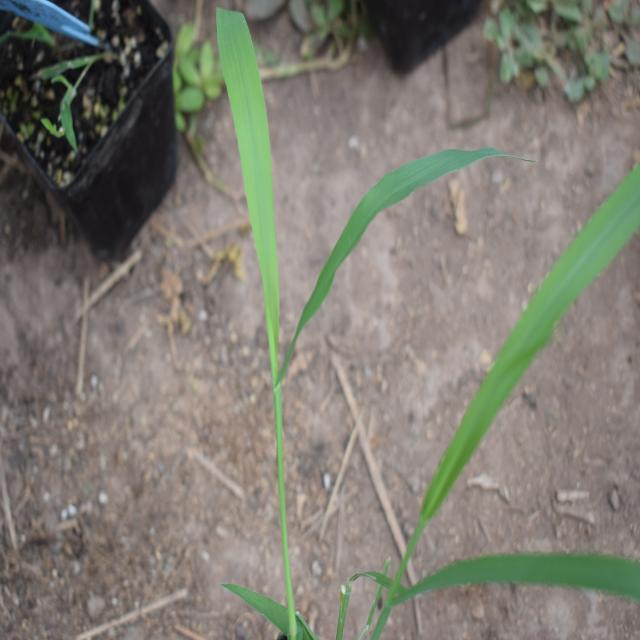crabgrass: (388, 162, 637, 622), (196, 3, 472, 402)
